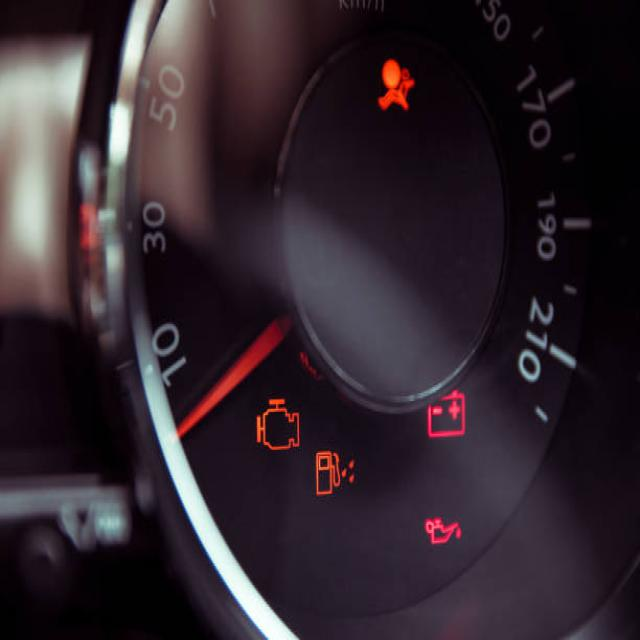Charging System Issue: (427, 387, 466, 437)
Check Engine: (256, 398, 299, 451)
Low Engine Oil Warning Light: (425, 516, 462, 544)
SRS-Airbag: (378, 58, 415, 112)
